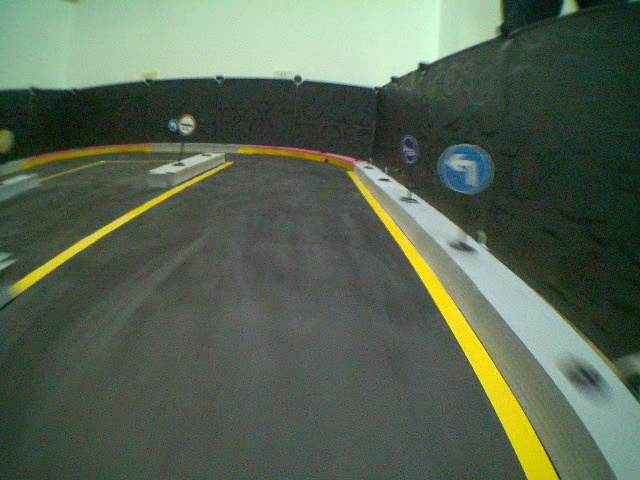Check: (179, 111, 197, 135)
crossing: (438, 141, 496, 195)
horn: (399, 133, 421, 168)
turn: (168, 120, 178, 133)
